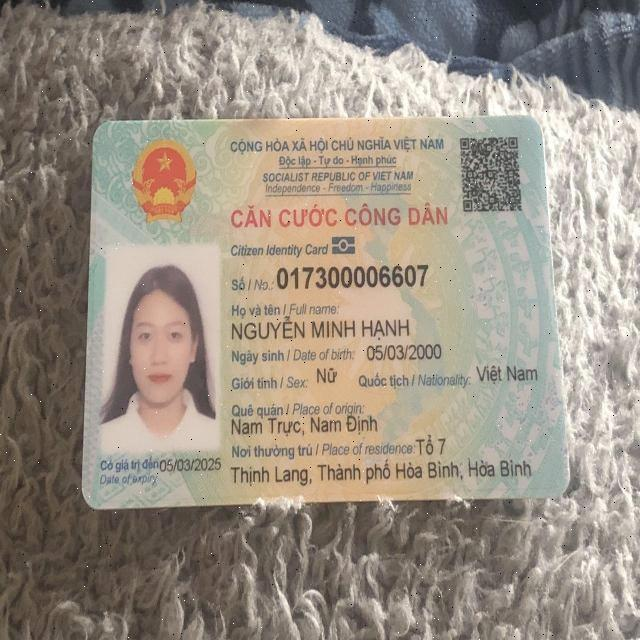current_place: (229, 457, 534, 487), (414, 431, 448, 457)
dob: (366, 342, 443, 364)
expire_date: (156, 456, 221, 472)
gender: (315, 362, 345, 388)
id: (274, 265, 427, 288)
name: (229, 316, 413, 340)
nationality: (474, 355, 537, 387)
origin_place: (230, 413, 377, 436)
